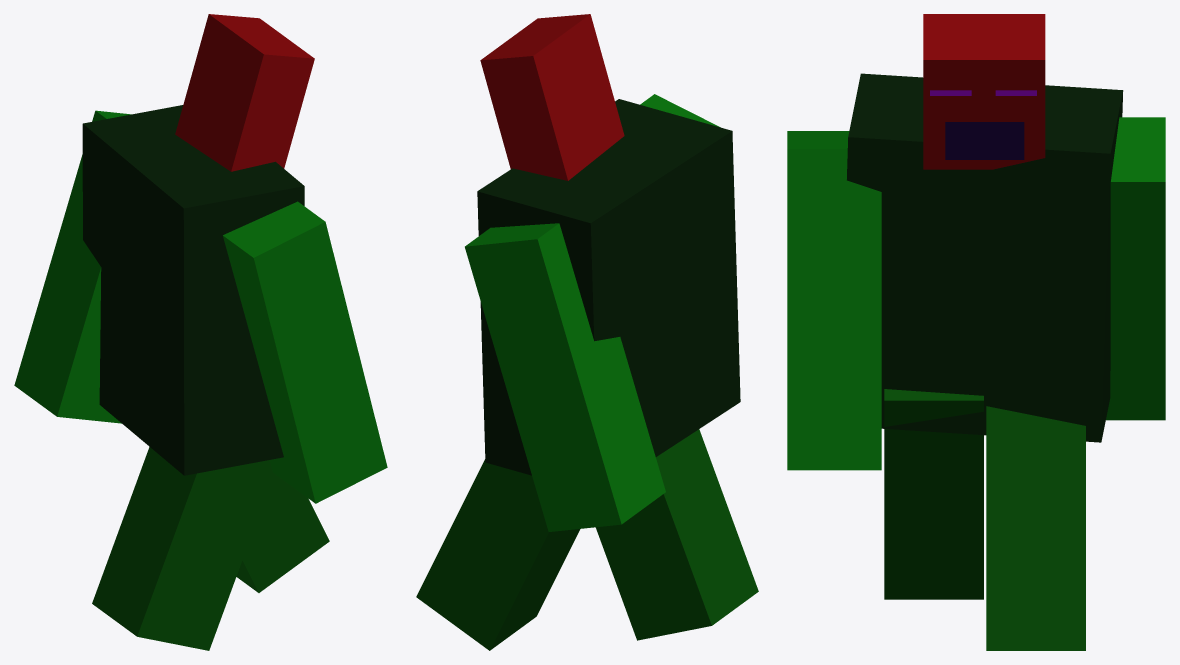
The model's file is walk_000006.obj.
3 renders of one model, left to right at view 1: azimuth 30°, elevation 25°; view 2: azimuth 150°, elevation 25°; view 3: azimuth 270°, elevation 25°, orthographic. The views are drawn at different scales.
Visible parts, largest first — view 1: Cube, leg.002_Cube.006, leg.001_Cube.007, Cube.001_Cube.003, leg.003_Cube.002, leg_Cube.001; view 2: Cube, leg.003_Cube.002, leg.001_Cube.007, leg_Cube.001, Cube.001_Cube.003, leg.002_Cube.006; view 3: Cube, leg.002_Cube.006, leg_Cube.001, leg.001_Cube.007, leg.003_Cube.002, Cube.001_Cube.003, Plane.002.
Part boxes in pixels (<box>): Cube: <box>82,105,304,475</box>; leg.002_Cube.006: <box>223,201,387,503</box>; leg.001_Cube.007: <box>92,447,274,650</box>; Cube.001_Cube.003: <box>175,14,314,171</box>; leg.003_Cube.002: <box>14,110,131,423</box>; leg_Cube.001: <box>236,474,329,592</box>; Cube: <box>477,99,740,475</box>; leg.003_Cube.002: <box>465,223,665,531</box>; leg.001_Cube.007: <box>595,429,758,640</box>; leg_Cube.001: <box>416,459,580,650</box>; Cube.001_Cube.003: <box>480,14,624,180</box>; leg.002_Cube.006: <box>640,94,720,127</box>; Cube: <box>847,73,1123,442</box>; leg.002_Cube.006: <box>787,131,881,470</box>; leg_Cube.001: <box>986,406,1085,650</box>; leg.001_Cube.007: <box>884,389,983,599</box>; leg.003_Cube.002: <box>1106,117,1165,420</box>; Cube.001_Cube.003: <box>923,14,1045,169</box>; Plane.002: <box>945,122,1024,159</box>.
Size of the model in its own units: 2.79 by 6.31 by 3.47.
